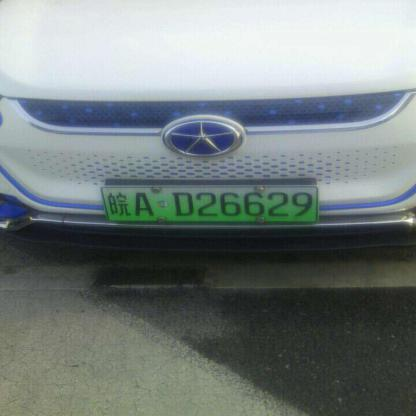lp: (100, 184, 318, 221)
